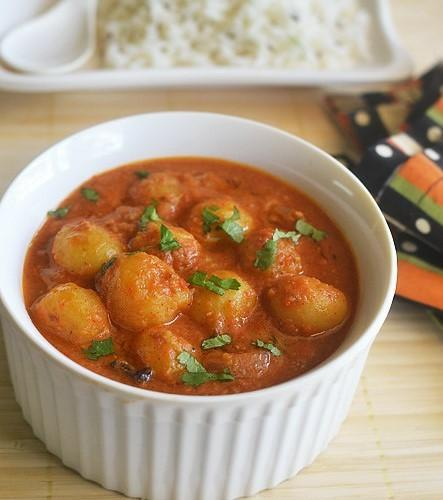DumAloo: (23, 155, 359, 398)
